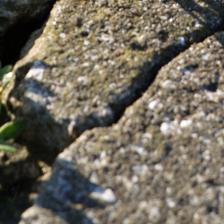Crack: (35, 12, 187, 135)
